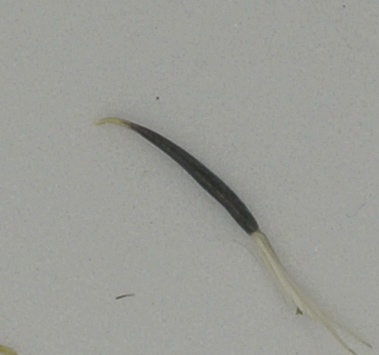เมล็ดดีเรียวยาว: (89, 115, 374, 354)
